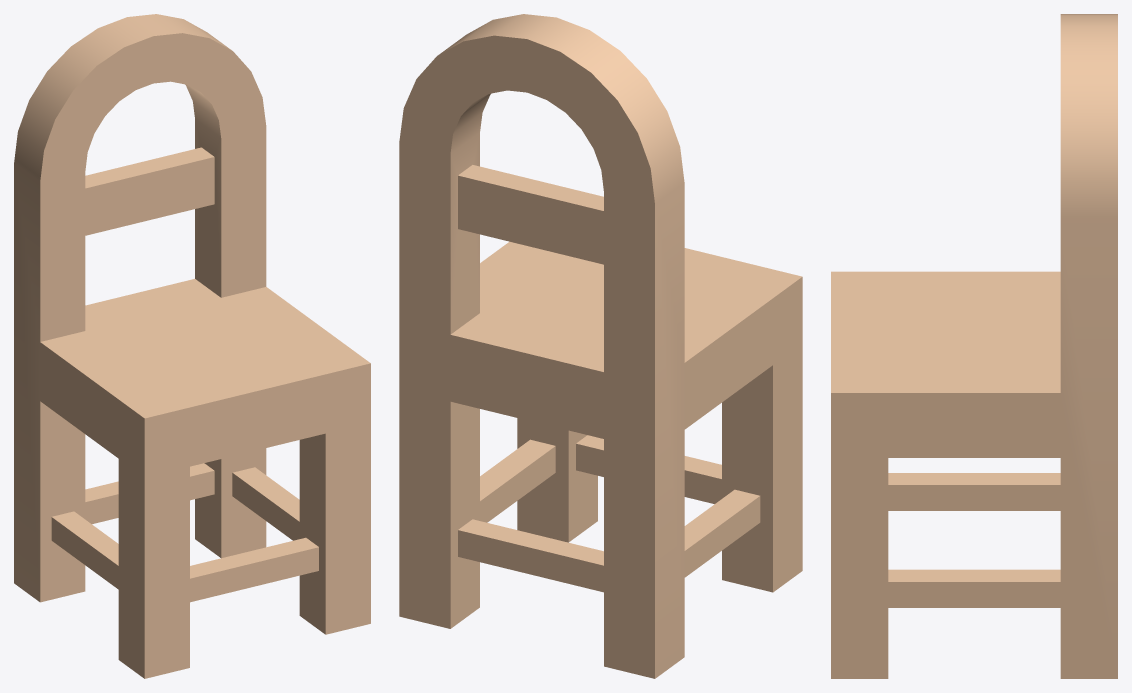
The model's file is chairRounded.optimized.glb.
The picture shows the model from 3 angles, left to right: view 1: azimuth 30°, elevation 25°; view 2: azimuth 150°, elevation 25°; view 3: azimuth 270°, elevation 25°; orthographic projection. The views are drawn at different scales.
Visible parts, largest first — view 1: chairRounded(Clone); view 2: chairRounded(Clone); view 3: chairRounded(Clone).
Part boxes in pixels (box(x1,y1,x2,y2)): chairRounded(Clone): box(14, 14, 370, 678); chairRounded(Clone): box(399, 14, 802, 678); chairRounded(Clone): box(831, 14, 1117, 678).
Bounding box in the file's own units: 0.2 × 0.455 × 0.2.
